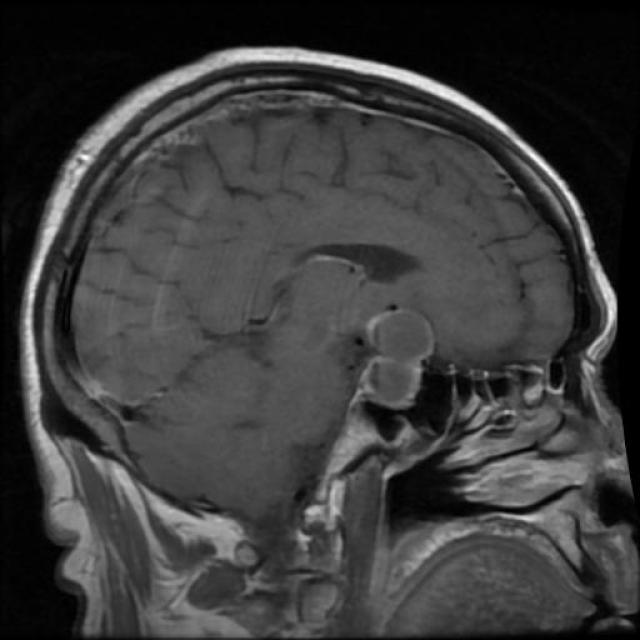pituitary: (328, 282, 441, 406)
